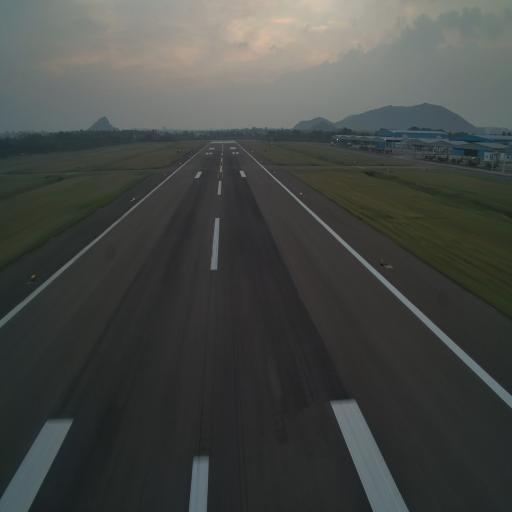off: (379, 255, 386, 271)
on: (30, 270, 36, 282), (298, 189, 302, 197), (132, 196, 135, 202)
